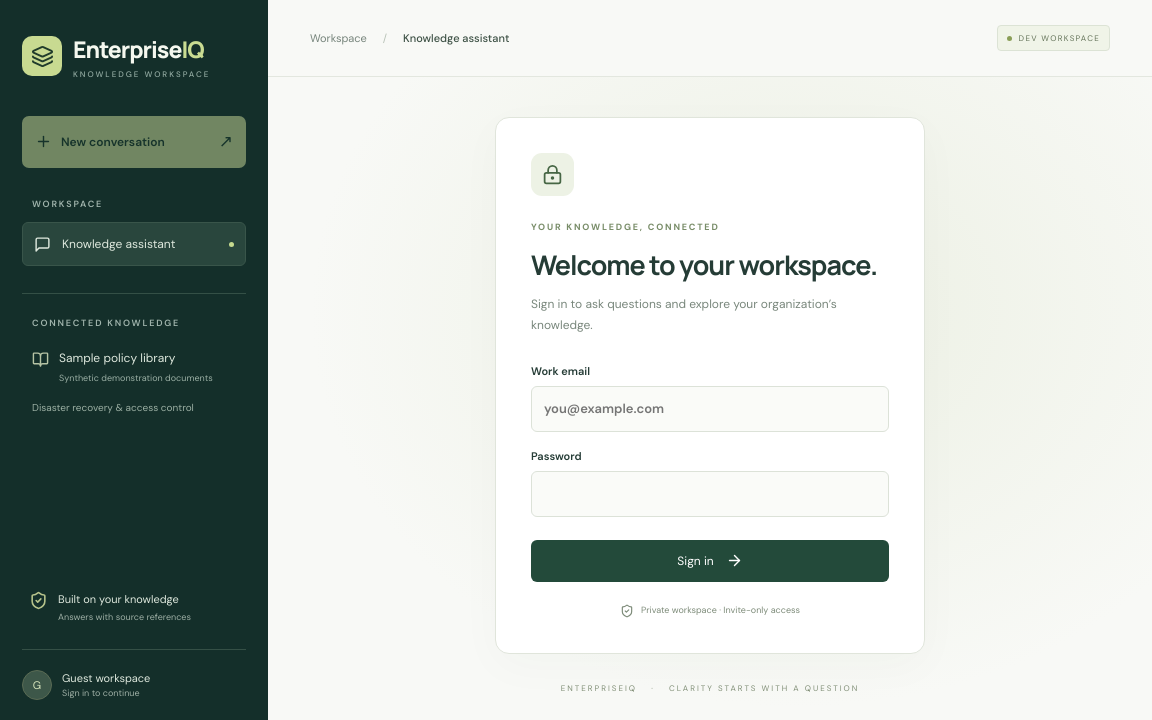
Test: workspace › signs in with SRP and opens the chat
Type "test@example.com" into the field labelled "Work email" at (710, 409), box [531, 386, 889, 432]
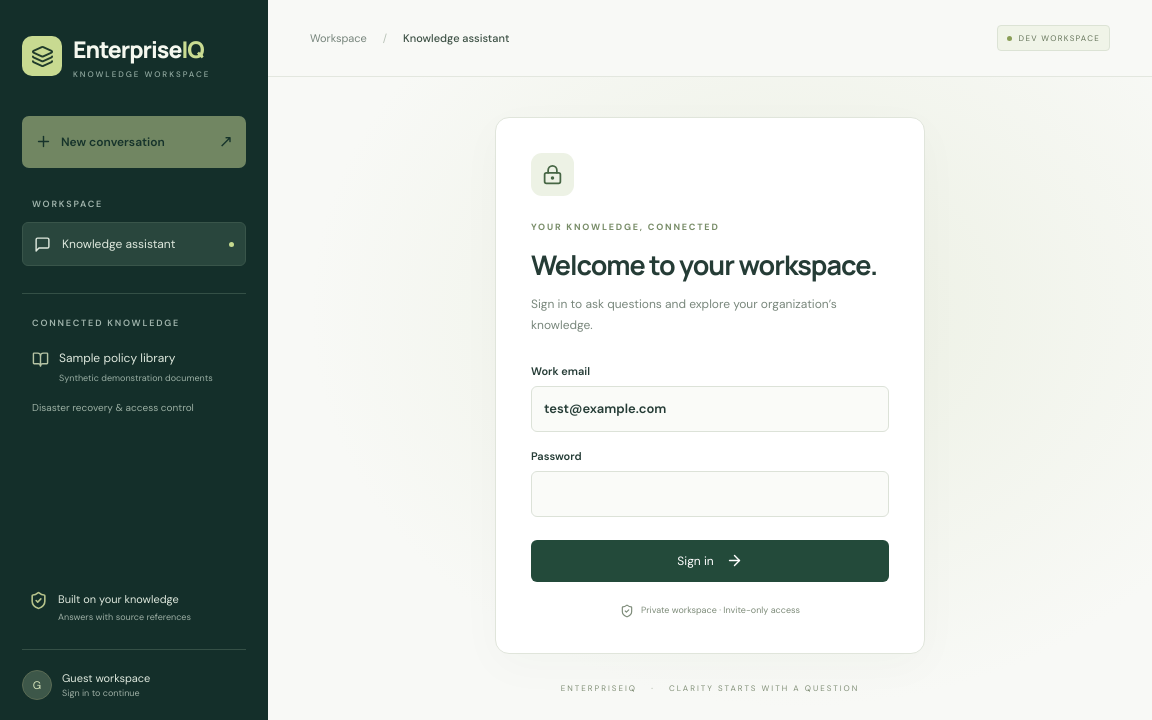
Type "secret" into the password field labelled "Password" at (710, 494), box [531, 471, 889, 517]
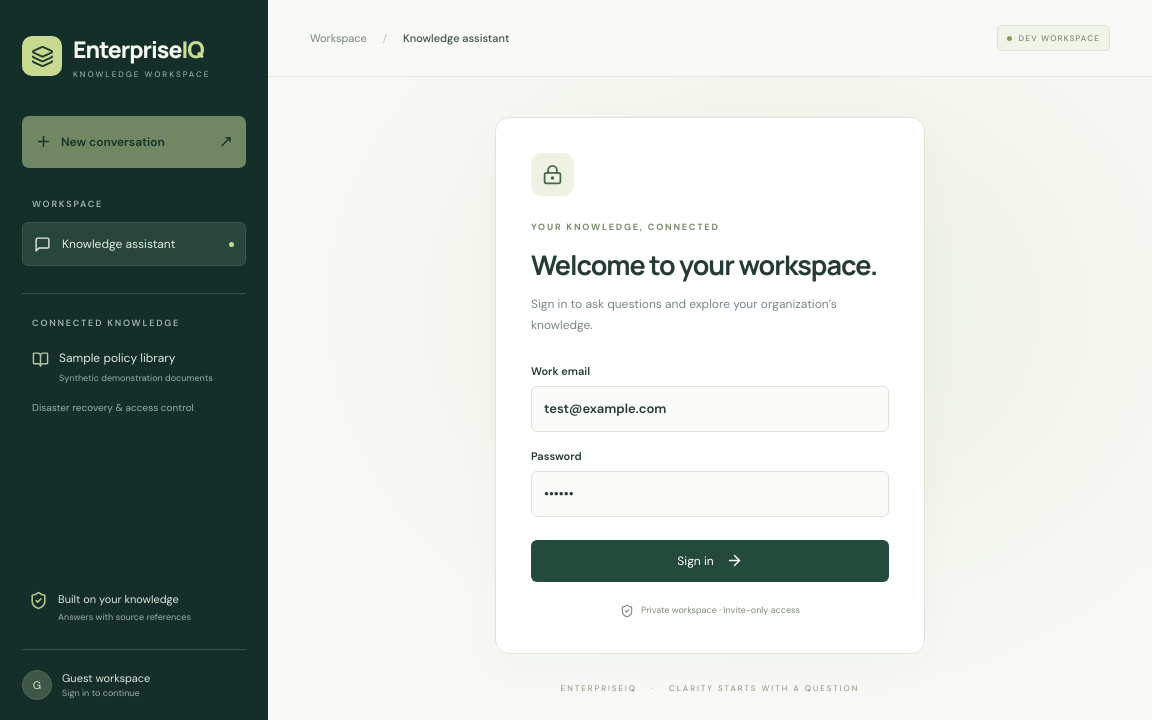
Click the button "Sign in" at (710, 561), box [531, 540, 889, 582]
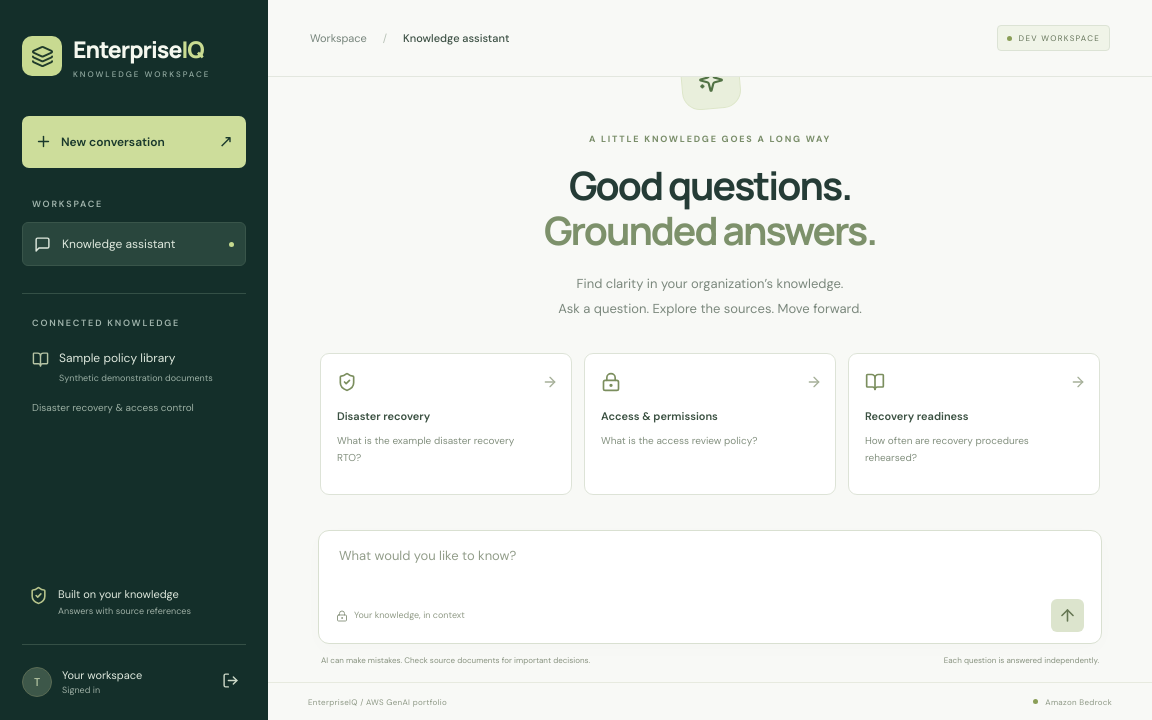
Now the text box named "Ask a question" is shown, box [336, 546, 1084, 592]
